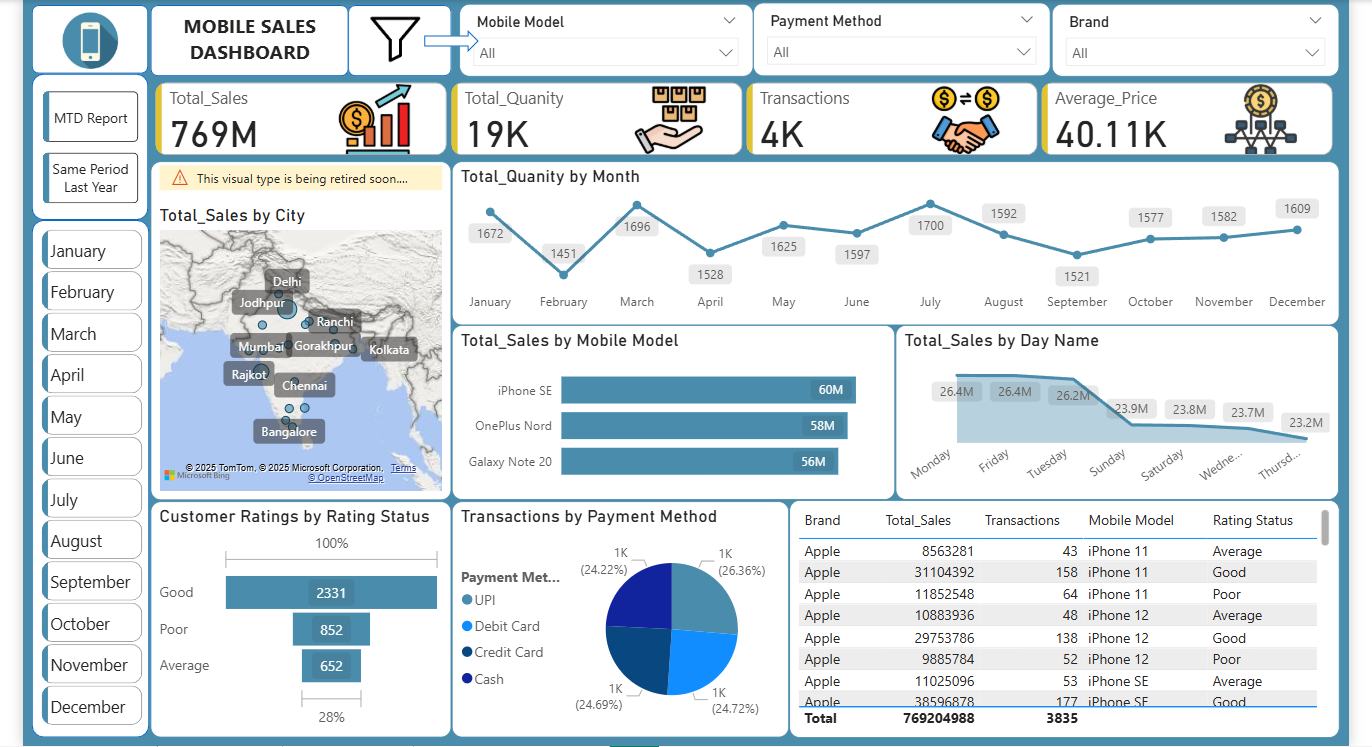

Layout of this report page (visuals, bound fields, positions):
{"tool":"powerbi","page":{"name":"Dashboard","canvas":[1280,720],"ordinal":0},"visuals":[{"type":"shape","box":[8.8,5,112.5,66.2],"z":0},{"type":"image","box":[32.6,7.2,65.1,63.9],"z":1000},{"type":"shape","box":[8.8,71.2,112.5,141.2],"z":2000},{"type":"shape","box":[8.4,212.3,113.4,499.5],"z":3000},{"type":"advancedSlicerVisual","fields":{"Values":["Custom_Calendar.Date.Variation.Date Hierarchy.Month"]},"box":[13.3,220.8,103.8,482.6],"z":4000},{"type":"slicer","fields":{"Values":["Mobile_Sales_Data.Mobile Model"]},"box":[421.2,3.8,283.8,70],"z":5000},{"type":"slicer","fields":{"Values":["Mobile_Sales_Data.Payment Method"]},"box":[705,2.5,287.5,71.2],"z":6000},{"type":"slicer","fields":{"Values":["Mobile_Sales_Data.Brand"]},"box":[992.5,3.8,277.5,70],"z":7000},{"type":"shape","box":[313.8,5,100,68.8],"z":8000},{"type":"image","box":[330,5,57.5,66.2],"z":9000},{"type":"shape","box":[387.5,28.8,52.5,21.2],"z":10000},{"type":"shape","box":[122.5,5,191.2,68.8],"z":11000},{"type":"textbox","box":[132.5,7.5,172.5,63.8],"z":12000},{"type":"map","fields":{"Category":["Mobile_Sales_Data.City"],"Size":["Mobile_Sales_Data.Total_Sales"]},"box":[123.1,155.6,290.8,326.9],"z":13000},{"type":"lineChart","fields":{"Category":["Custom_Calendar.Date.Variation.Date Hierarchy.Month"],"Y":["Mobile_Sales_Data.Total_Quanity"]},"box":[413.8,155.6,856.6,158],"z":14000},{"type":"funnel","title":"Customer Ratings by Rating Status","fields":{"Y":["CountNonNull(Mobile_Sales_Data.Customer Ratings)"],"Category":["Mobile_Sales_Data.Rating Status"]},"box":[123.1,483.8,290.8,228],"z":15000},{"type":"pieChart","fields":{"Y":["Mobile_Sales_Data.Transactions"],"Category":["Mobile_Sales_Data.Payment Method"]},"box":[413.8,483.8,325.7,228],"z":16000},{"type":"clusteredBarChart","fields":{"Y":["Mobile_Sales_Data.Total_Sales"],"Category":["Mobile_Sales_Data.Mobile Model"]},"box":[413.8,313.7,428.3,168.9],"z":17000},{"type":"areaChart","fields":{"Y":["Mobile_Sales_Data.Total_Sales"],"Category":["Custom_Calendar.Day Name"]},"box":[842.1,313.7,428.3,168.9],"z":18000},{"type":"tableEx","fields":{"Values":["Mobile_Sales_Data.Brand","Mobile_Sales_Data.Total_Sales","Mobile_Sales_Data.Transactions","Mobile_Sales_Data.Mobile Model","Mobile_Sales_Data.Rating Status"]},"box":[739.5,482.6,530.8,229.2],"z":19000},{"type":"pageNavigator","box":[19.3,88.1,92.9,108.6],"z":20000},{"type":"cardVisual","fields":{"Data":["Mobile_Sales_Data.Total_Sales","Mobile_Sales_Data.Total_Quanity","Mobile_Sales_Data.Transactions","Mobile_Sales_Data.Average_Price"]},"box":[123.1,74.8,1147.3,80.8],"z":21000}]}

Visuals, with their boxes on the page's 1280x720 design canvas (x1, y1, x2, y2). These are canvas units, not pixel positions in the 1372x747 screenshot, which may show the page scaled, cropped or inside an application window:
shape: [x1=9, y1=5, x2=121, y2=71]
image: [x1=33, y1=7, x2=98, y2=71]
shape: [x1=9, y1=71, x2=121, y2=212]
shape: [x1=8, y1=212, x2=122, y2=712]
advancedSlicerVisual - Custom_Calendar.Date.Variation.Date Hierarchy.Month: [x1=13, y1=221, x2=117, y2=703]
slicer - Mobile_Sales_Data.Mobile Model: [x1=421, y1=4, x2=705, y2=74]
slicer - Mobile_Sales_Data.Payment Method: [x1=705, y1=2, x2=992, y2=74]
slicer - Mobile_Sales_Data.Brand: [x1=992, y1=4, x2=1270, y2=74]
shape: [x1=314, y1=5, x2=414, y2=74]
image: [x1=330, y1=5, x2=388, y2=71]
shape: [x1=388, y1=29, x2=440, y2=50]
shape: [x1=122, y1=5, x2=314, y2=74]
textbox: [x1=132, y1=8, x2=305, y2=71]
map - Mobile_Sales_Data.City x Mobile_Sales_Data.Total_Sales: [x1=123, y1=156, x2=414, y2=482]
lineChart - Custom_Calendar.Date.Variation.Date Hierarchy.Month x Mobile_Sales_Data.Total_Quanity: [x1=414, y1=156, x2=1270, y2=314]
"Customer Ratings by Rating Status" funnel: [x1=123, y1=484, x2=414, y2=712]
pieChart - Mobile_Sales_Data.Transactions x Mobile_Sales_Data.Payment Method: [x1=414, y1=484, x2=740, y2=712]
clusteredBarChart - Mobile_Sales_Data.Total_Sales x Mobile_Sales_Data.Mobile Model: [x1=414, y1=314, x2=842, y2=483]
areaChart - Mobile_Sales_Data.Total_Sales x Custom_Calendar.Day Name: [x1=842, y1=314, x2=1270, y2=483]
tableEx - Mobile_Sales_Data.Brand x Mobile_Sales_Data.Total_Sales: [x1=740, y1=483, x2=1270, y2=712]
pageNavigator: [x1=19, y1=88, x2=112, y2=197]
cardVisual - Mobile_Sales_Data.Total_Sales x Mobile_Sales_Data.Total_Quanity: [x1=123, y1=75, x2=1270, y2=156]
